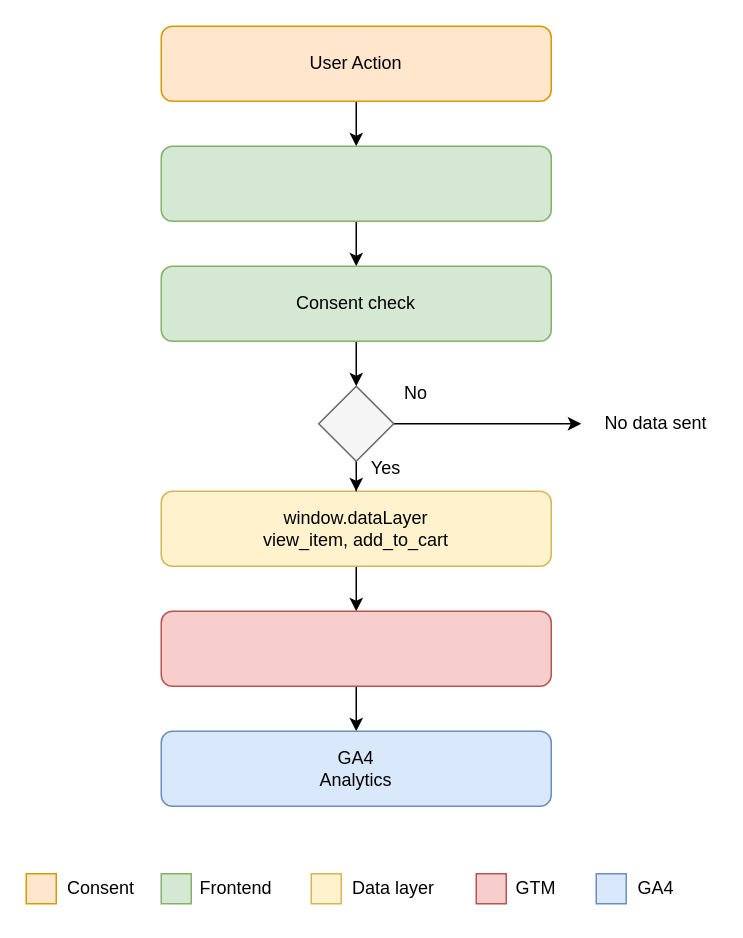
Image size: 743x938. Some labels were removed from this diagram. The shapes that lost their labels are listed below. From the top down, each one's centre as x and y in pixels, then its label:
the point at 355,183: Next.js/React Component call trackEvent()
the point at 355,648: Google Tag Manager Tags, Triggers, Variables
